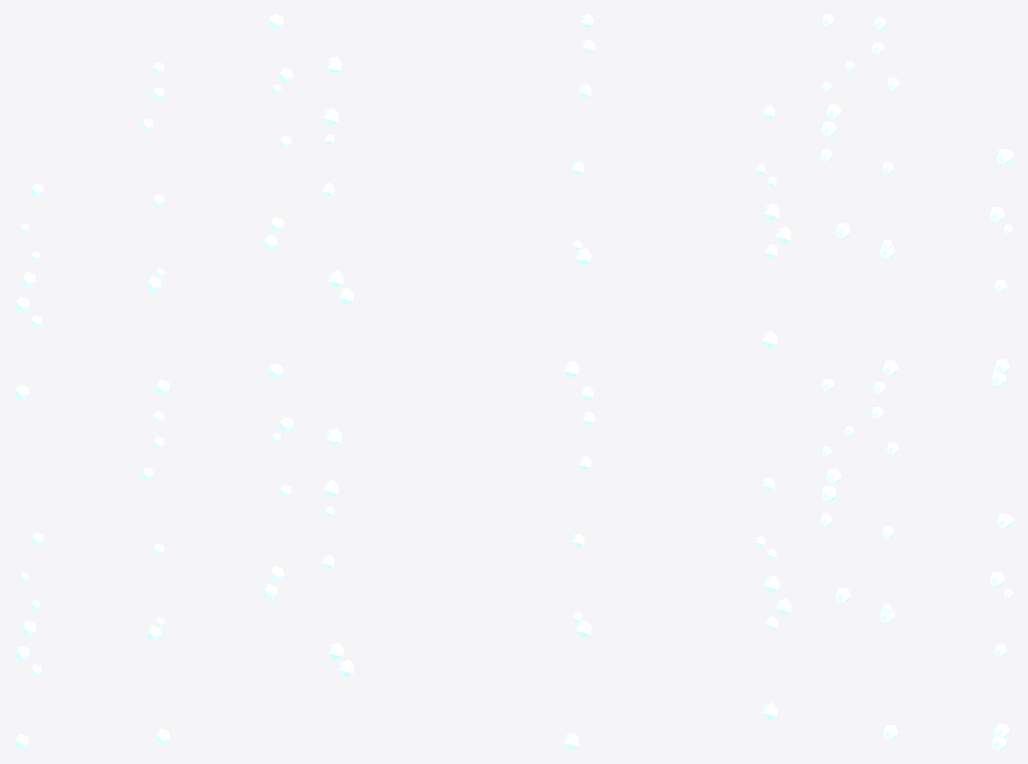
The model's file is bubbles.glb.
3 renders of one model, left to right at view 1: azimuth 30°, elevation 25°; view 2: azimuth 150°, elevation 25°; view 3: azimuth 270°, elevation 25°, orthographic. The views are drawn at different scales.
Visible parts, largest first — view 1: Bubbles; view 2: Bubbles; view 3: Bubbles.
Part boxes in pixels (x1,y1,x2,y2): Bubbles: [14, 14, 293, 749]; Bubbles: [322, 14, 791, 749]; Bubbles: [820, 14, 1013, 749].
Size of the model in its own units: 5.34 by 9.83 by 2.41.
